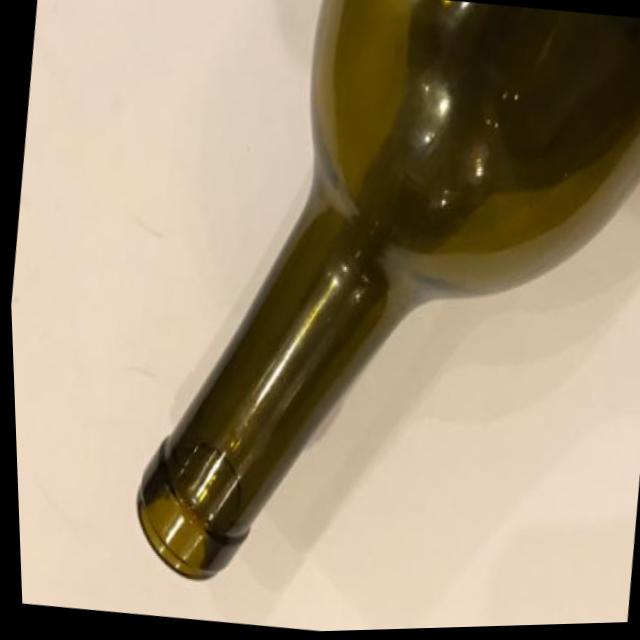glass: (69, 0, 640, 638)
